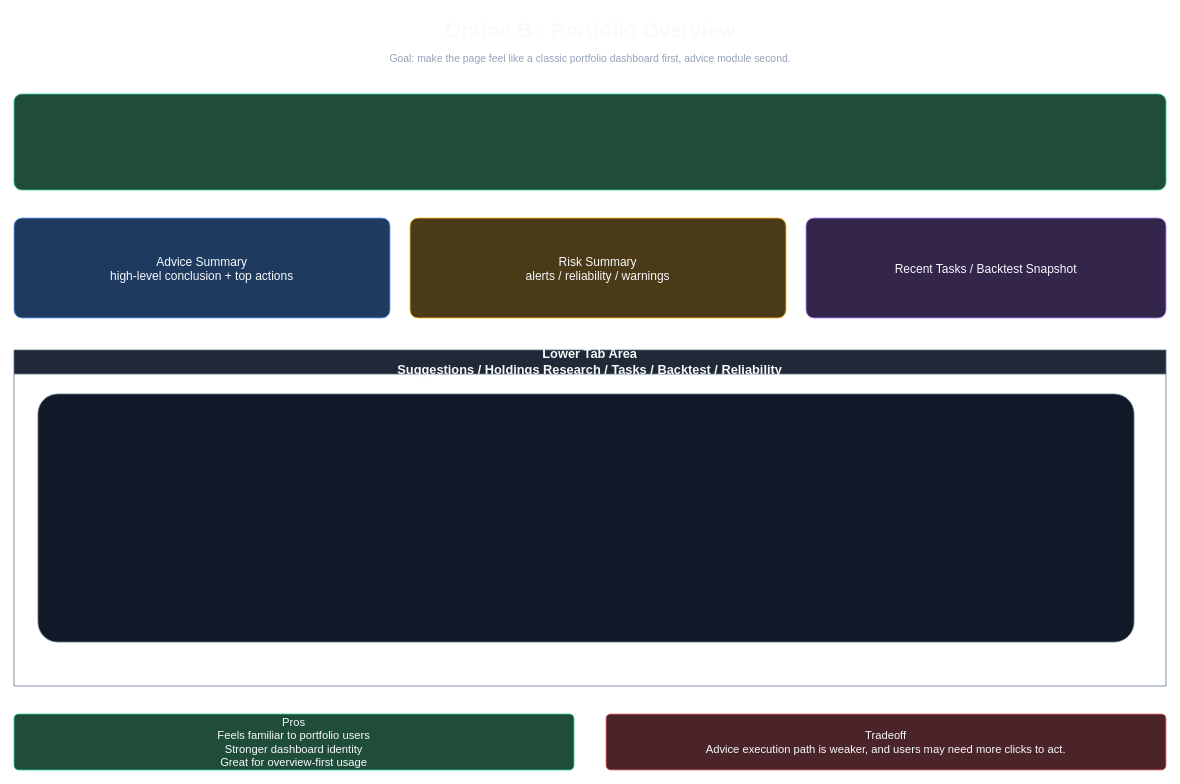
Some shapes in this 1180 by 784 pixel diagram are drawn without their labels. Each missing label, with the centre of its shape:
Current tab content lives here Usually a large grid or table view: point 585,517
Portfolio Hero Total Value / PnL / Allocation / Cash / Concentration: point 589,141
